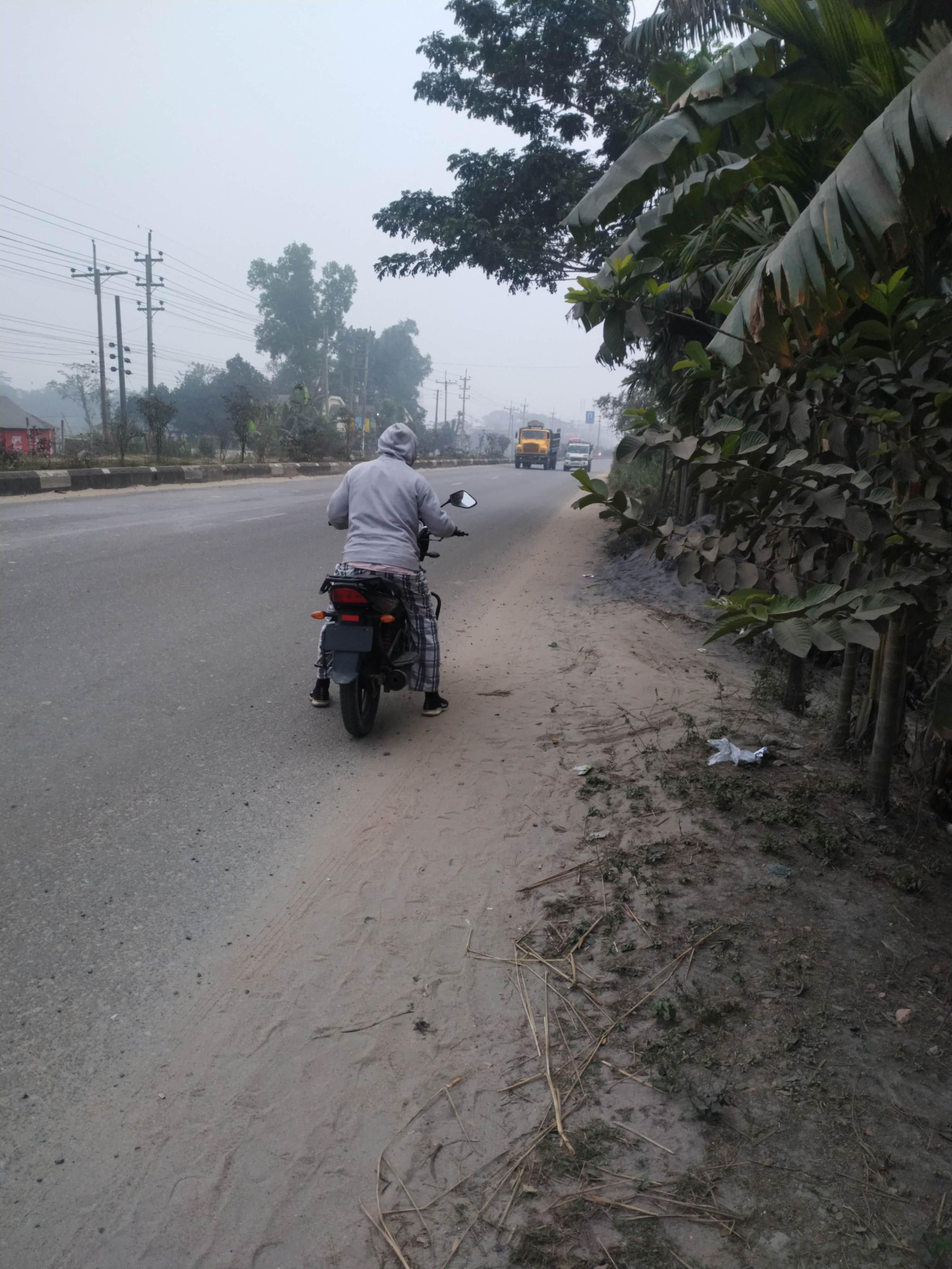Bike: (291, 392, 489, 757)
Truck: (508, 415, 566, 493), (557, 432, 608, 484)
